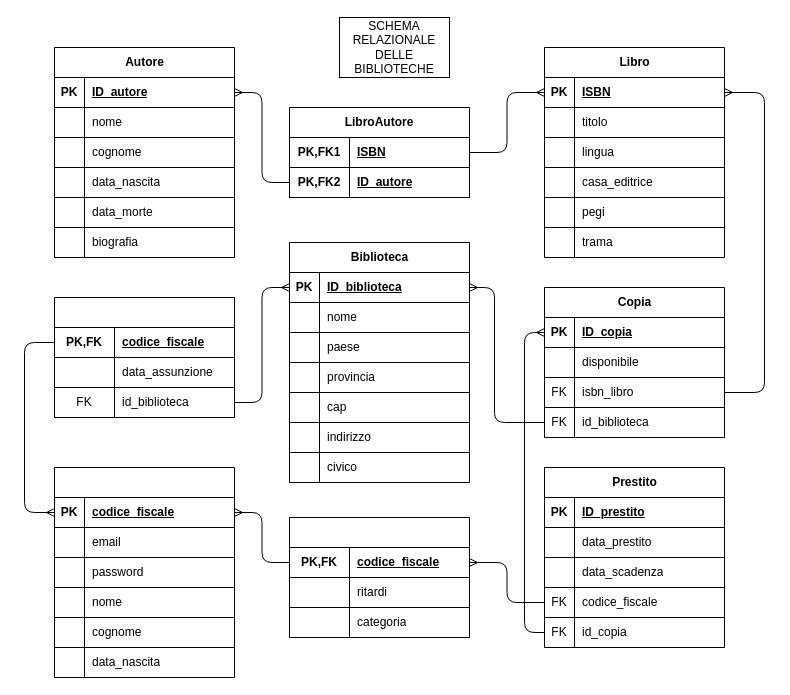
This 790x695 diagram has some shape labels left out. The shapes that lost their labels are listed below. From the top down, each one's box as (x1, y1, x2, y2) in pixels, then its label:
(54, 296, 234, 418): Bibliotecario
(54, 466, 234, 678): Utente
(288, 516, 470, 638): Lettore
